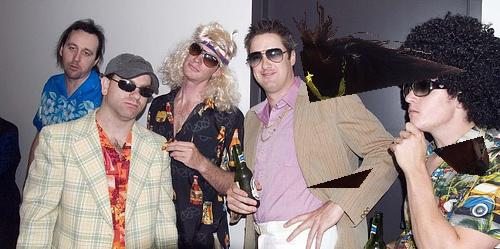tampered: (293, 2, 489, 188)
